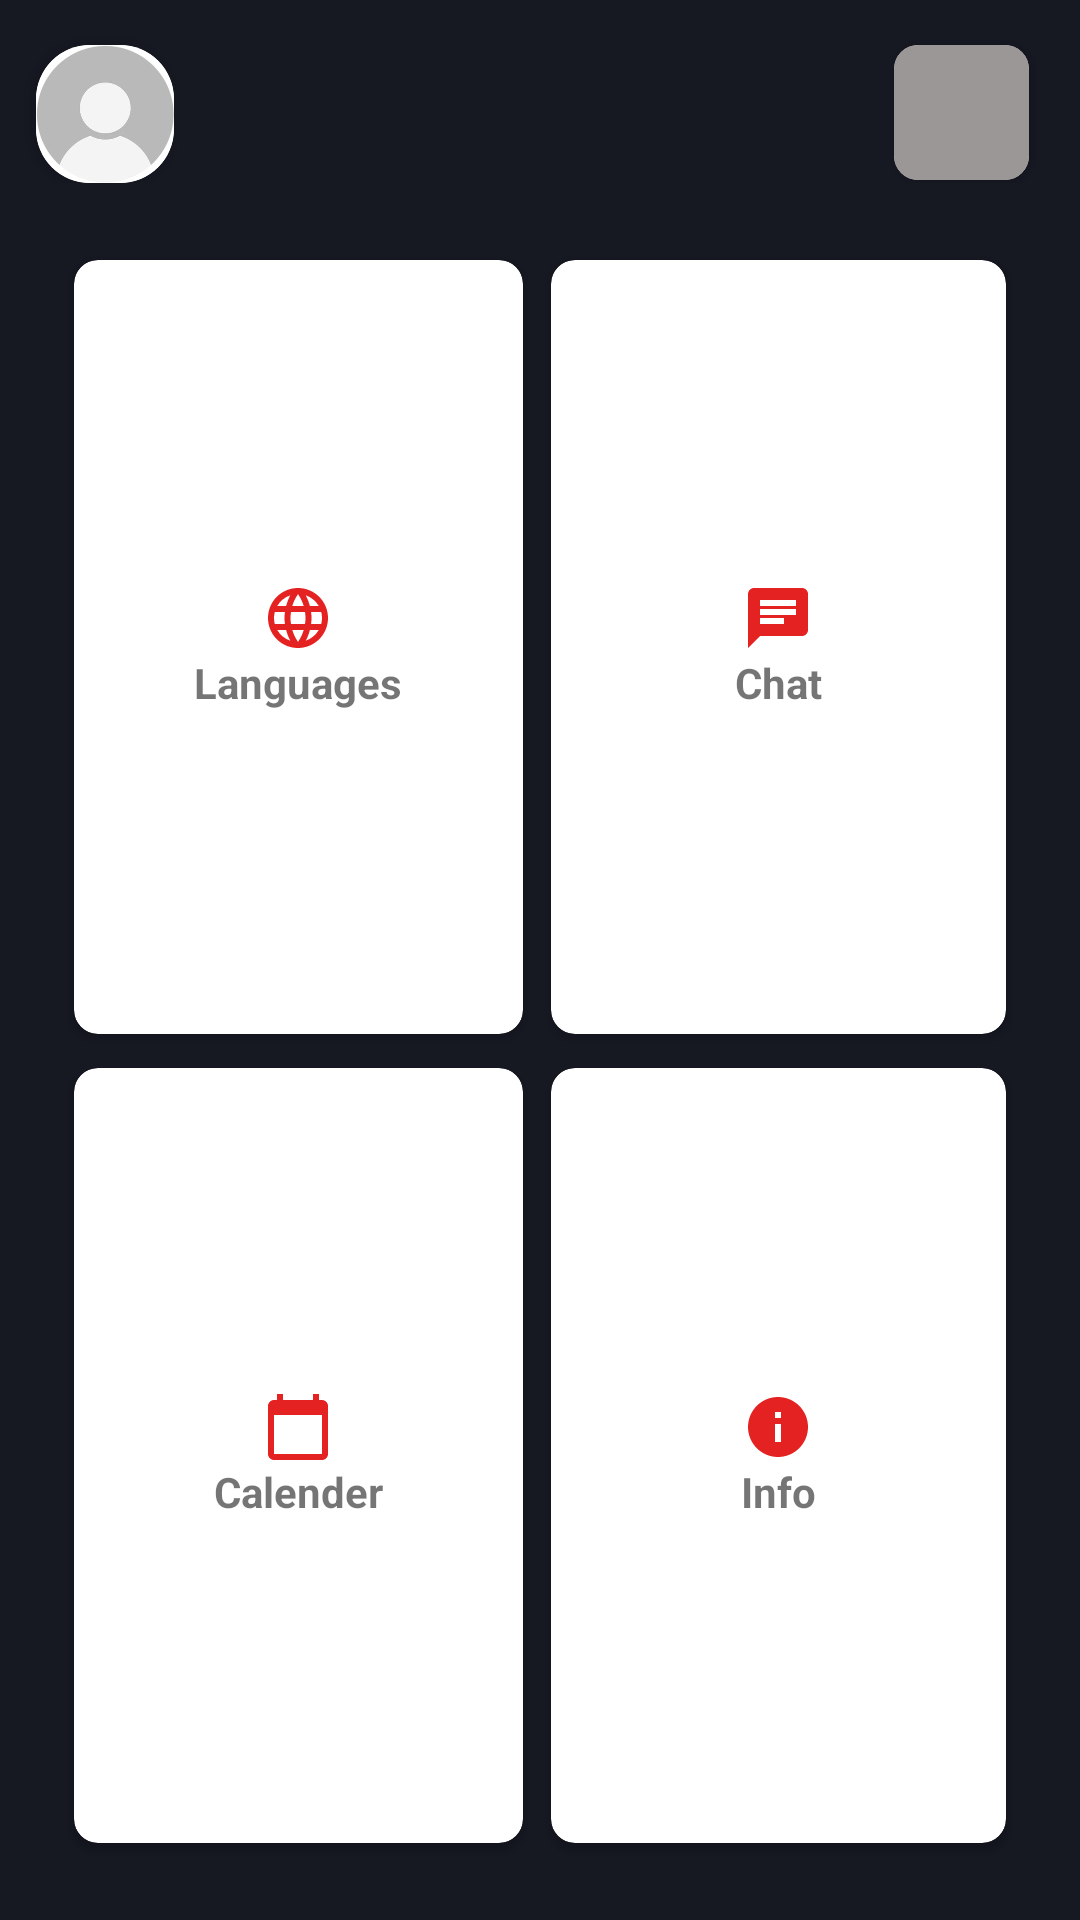

Locate icon controls on the screen. Image size 1080×1920, boxes as (x1, y1, x2, y2).
defult profile: (36, 45, 174, 183)
